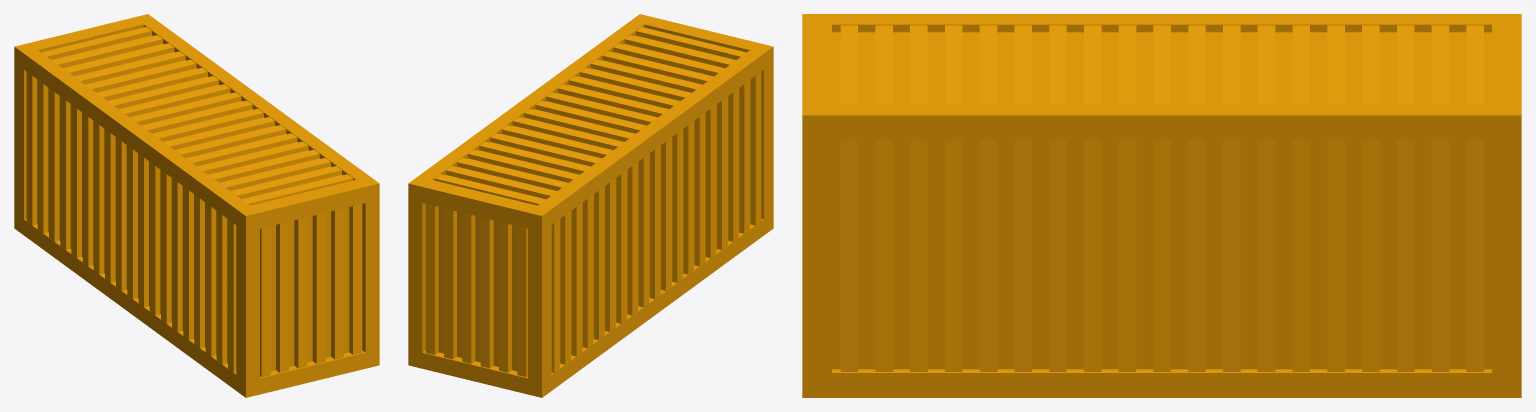
The model's file is Cargo_ship_01_Box1.fbx.
The picture shows the model from 3 angles, left to right: view 1: azimuth 30°, elevation 25°; view 2: azimuth 150°, elevation 25°; view 3: azimuth 270°, elevation 25°; orthographic projection. The views are drawn at different scales.
Visible parts, largest first — view 1: Cargo_ship_01_Box1; view 2: Cargo_ship_01_Box1; view 3: Cargo_ship_01_Box1.
Part boxes in pixels (x1,y1,x2,y2): Cargo_ship_01_Box1: [14, 14, 379, 397]; Cargo_ship_01_Box1: [408, 14, 773, 397]; Cargo_ship_01_Box1: [802, 14, 1521, 397].
Size of the model in its own units: 200 by 260 by 600.
